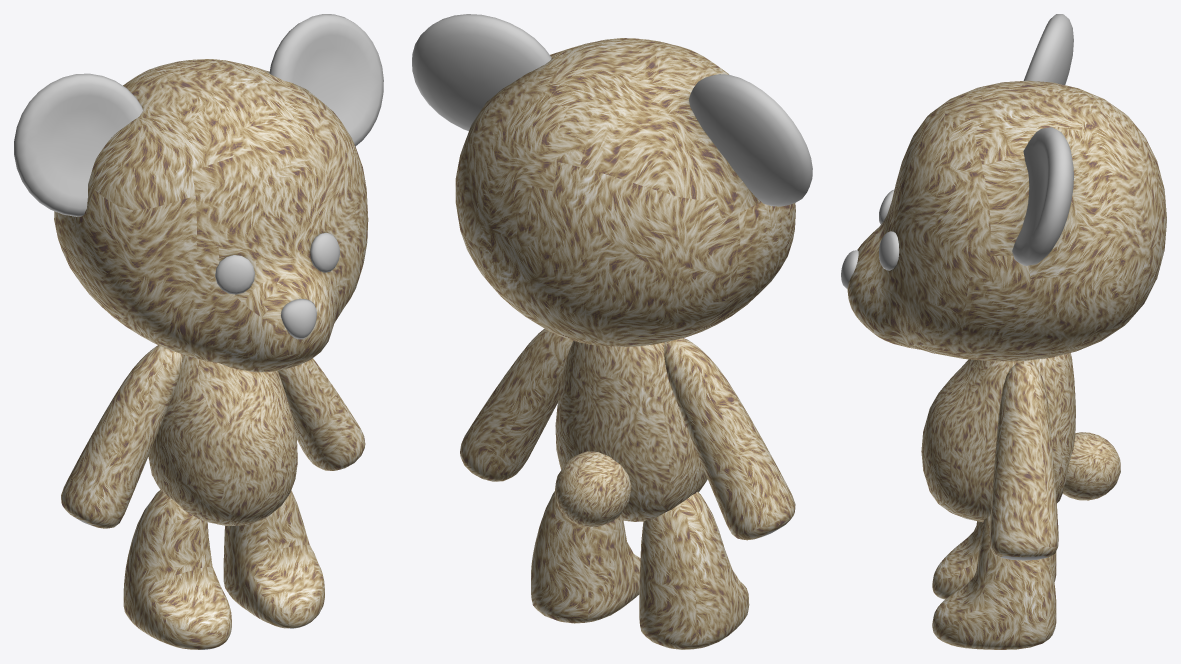
The model's file is bear_part.fbx.
The picture shows the model from 3 angles, left to right: view 1: azimuth 30°, elevation 25°; view 2: azimuth 150°, elevation 25°; view 3: azimuth 270°, elevation 25°; orthographic projection. The views are drawn at different scales.
Visible parts, largest first — view 1: head, body, leg_L, arm_L, leg_R, arm_R; view 2: head, body, arm_L, leg_L, leg_R, arm_R; view 3: head, body, arm_R, leg_R, leg_L.
Part boxes in pixels (x1,y1,x2,y2): head: [14, 14, 383, 372]; body: [148, 354, 297, 525]; leg_L: [123, 490, 231, 649]; arm_L: [61, 345, 182, 528]; leg_R: [223, 490, 324, 628]; arm_R: [278, 358, 365, 470]; head: [412, 14, 812, 346]; body: [554, 341, 707, 527]; arm_L: [664, 338, 795, 540]; leg_L: [639, 492, 749, 649]; leg_R: [531, 491, 640, 623]; arm_R: [460, 328, 572, 481]; head: [841, 14, 1166, 361]; body: [921, 353, 1120, 522]; arm_R: [989, 361, 1058, 560]; leg_R: [932, 515, 1056, 649]; leg_L: [932, 521, 1056, 599].
Size of the model in its own units: 2.03 by 2.92 by 1.6.
